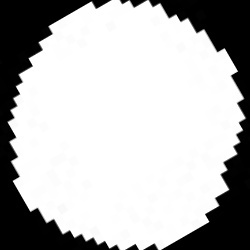spot: (8, 1, 248, 250)
